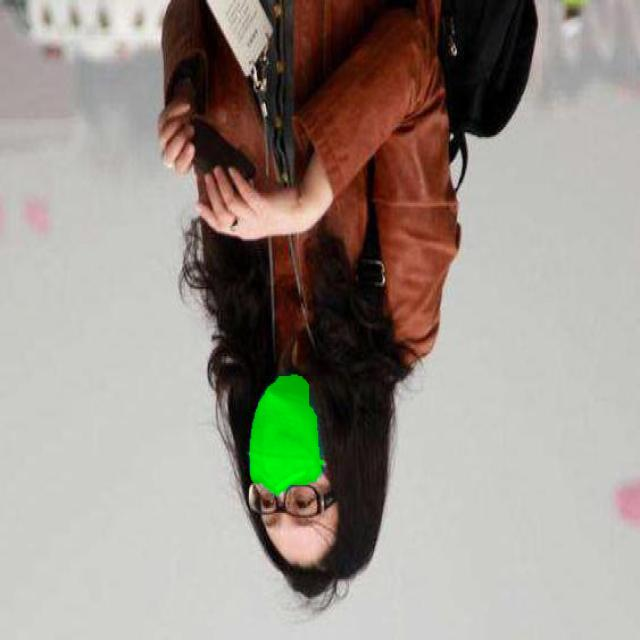mask: (233, 372, 349, 497)
